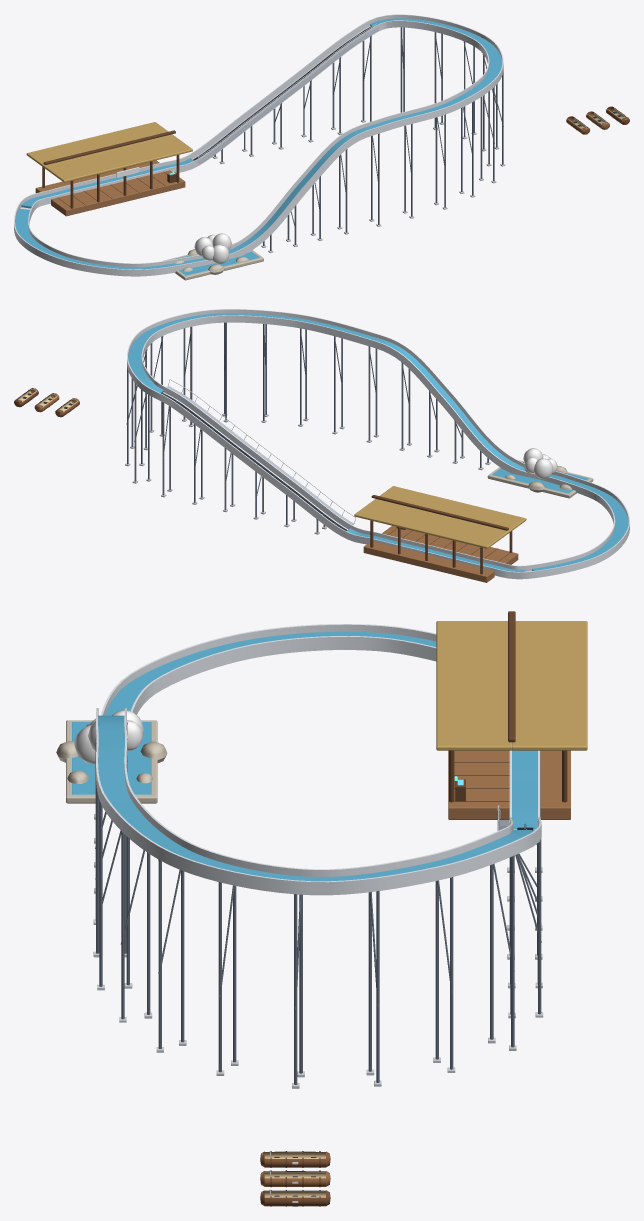
Rendered from flume.glb.
3 views of the same model, one above another, from view 1: azimuth 30°, elevation 25°; view 2: azimuth 150°, elevation 25°; view 3: azimuth 270°, elevation 25° (orthographic). The views are drawn at different scales.
Visible parts, largest first — view 1: flume_trough, flume_station_deck, flume_trestles, flume_water, flume_lift_walkway, flume_pool_basin, flume_splash, flume_lift_belt; view 2: flume_trough, flume_station_deck, flume_trestles, flume_water, flume_pool_basin, flume_lift_walkway, flume_splash, flume_lift_belt; view 3: flume_station_deck, flume_trough, flume_trestles, flume_water, flume_pool_basin, flume_splash, flume_log_c, flume_log_a, flume_log_b.
Boxes of the visible parts, left/top/right/bottom form: flume_trough: left=14, top=14, right=503, bottom=276; flume_station_deck: left=26, top=122, right=192, bottom=216; flume_trestles: left=212, top=27, right=505, bottom=252; flume_water: left=15, top=18, right=502, bottom=269; flume_lift_walkway: left=197, top=23, right=378, bottom=163; flume_pool_basin: left=163, top=243, right=263, bottom=280; flume_splash: left=194, top=233, right=231, bottom=263; flume_lift_belt: left=193, top=24, right=378, bottom=163; flume_trough: left=127, top=309, right=629, bottom=579; flume_station_deck: left=354, top=486, right=526, bottom=582; flume_trestles: left=125, top=322, right=490, bottom=534; flume_water: left=128, top=313, right=628, bottom=571; flume_pool_basin: left=487, top=460, right=593, bottom=498; flume_lift_walkway: left=166, top=379, right=355, bottom=524; flume_splash: left=523, top=448, right=557, bottom=478; flume_lift_belt: left=161, top=379, right=356, bottom=530; flume_station_deck: left=436, top=611, right=587, bottom=819; flume_trough: left=95, top=624, right=541, bottom=895; flume_trestles: left=93, top=722, right=543, bottom=1088; flume_water: left=98, top=631, right=537, bottom=881; flume_pool_basin: left=56, top=720, right=167, bottom=803; flume_splash: left=74, top=710, right=144, bottom=764; flume_log_c: left=260, top=1189, right=330, bottom=1206; flume_log_a: left=260, top=1151, right=330, bottom=1167; flume_log_b: left=260, top=1170, right=330, bottom=1187.
Size of the model in its own units: 88.01 by 15.36 by 34.73.
